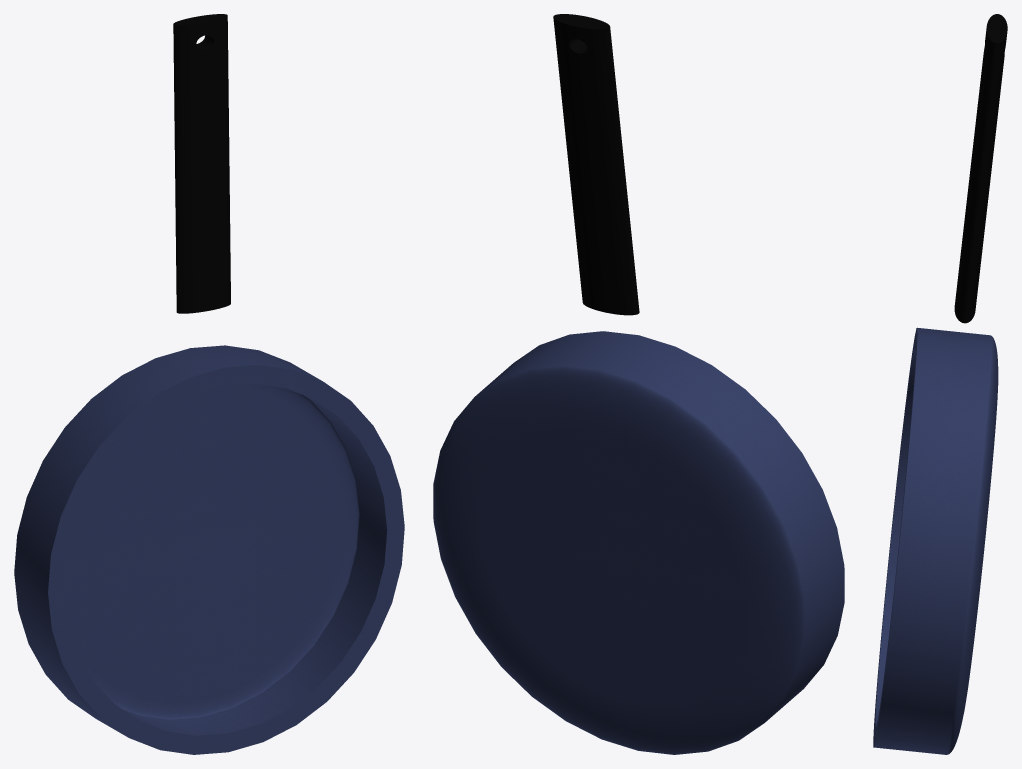
File: sartenobj.obj
3 views of the same model, side by side, from view 1: azimuth 30°, elevation 25°; view 2: azimuth 150°, elevation 25°; view 3: azimuth 270°, elevation 25° (orthographic). The views are drawn at different scales.
Visible parts, largest first — view 1: Cilindro.028, Cilindro.027; view 2: Cilindro.028, Cilindro.027; view 3: Cilindro.028, Cilindro.027.
Boxes of the visible parts, bbox=[...] form: Cilindro.028: bbox=[14, 345, 404, 754]; Cilindro.027: bbox=[173, 14, 230, 313]; Cilindro.028: bbox=[433, 331, 844, 754]; Cilindro.027: bbox=[553, 14, 639, 315]; Cilindro.028: bbox=[873, 327, 998, 754]; Cilindro.027: bbox=[954, 14, 1007, 323].
Size of the model in its own units: 4.76 by 8.9 by 1.5.
